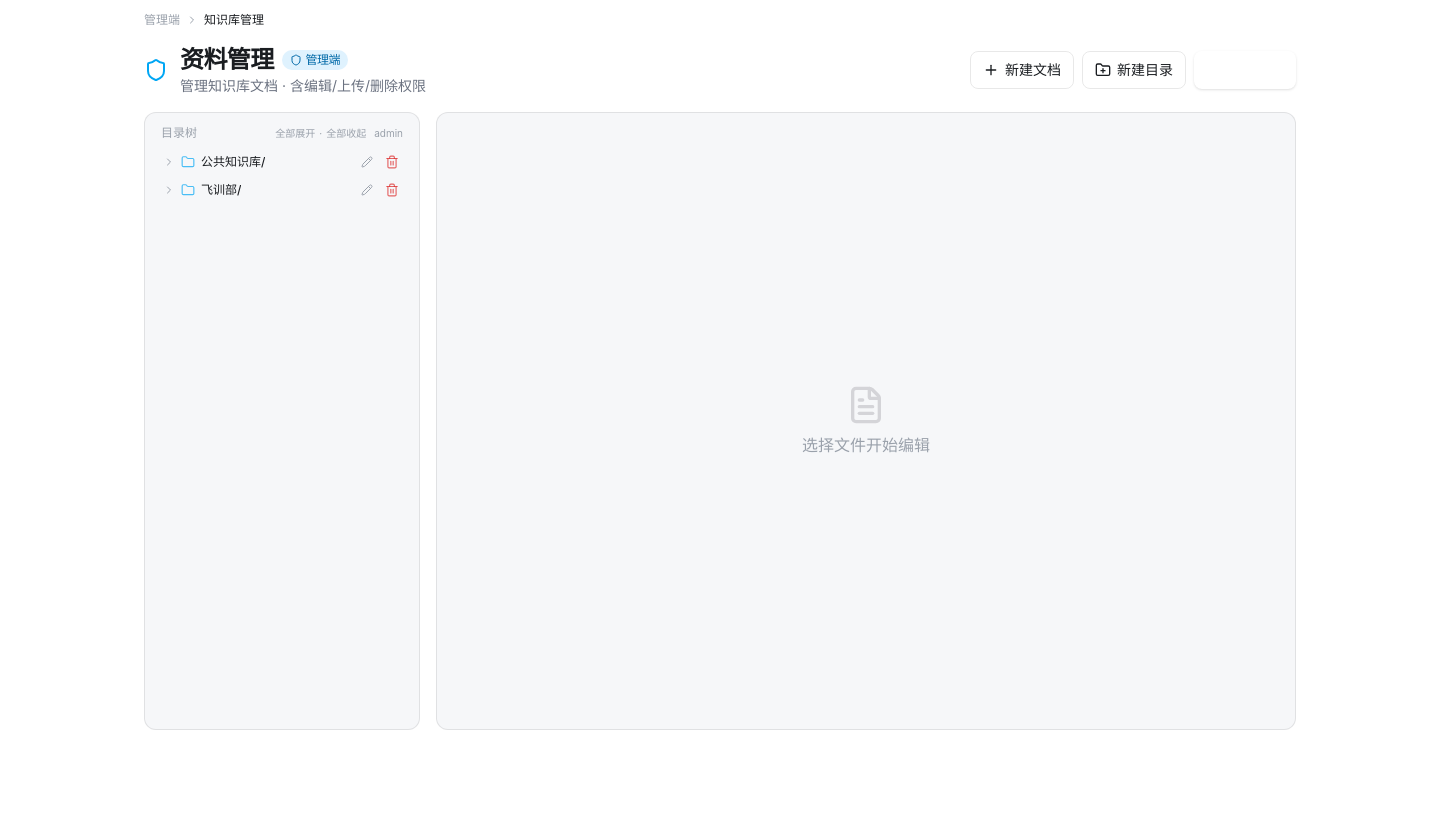
Test: 知识库管理页 · 目录树折叠 › 「全部收起」把展开的都收回去
Check: the text "公共知识库/" is shown, box [201,154,266,170]
Step 1. Click the button "全部展开" → (295, 133), box [275,126,315,140]
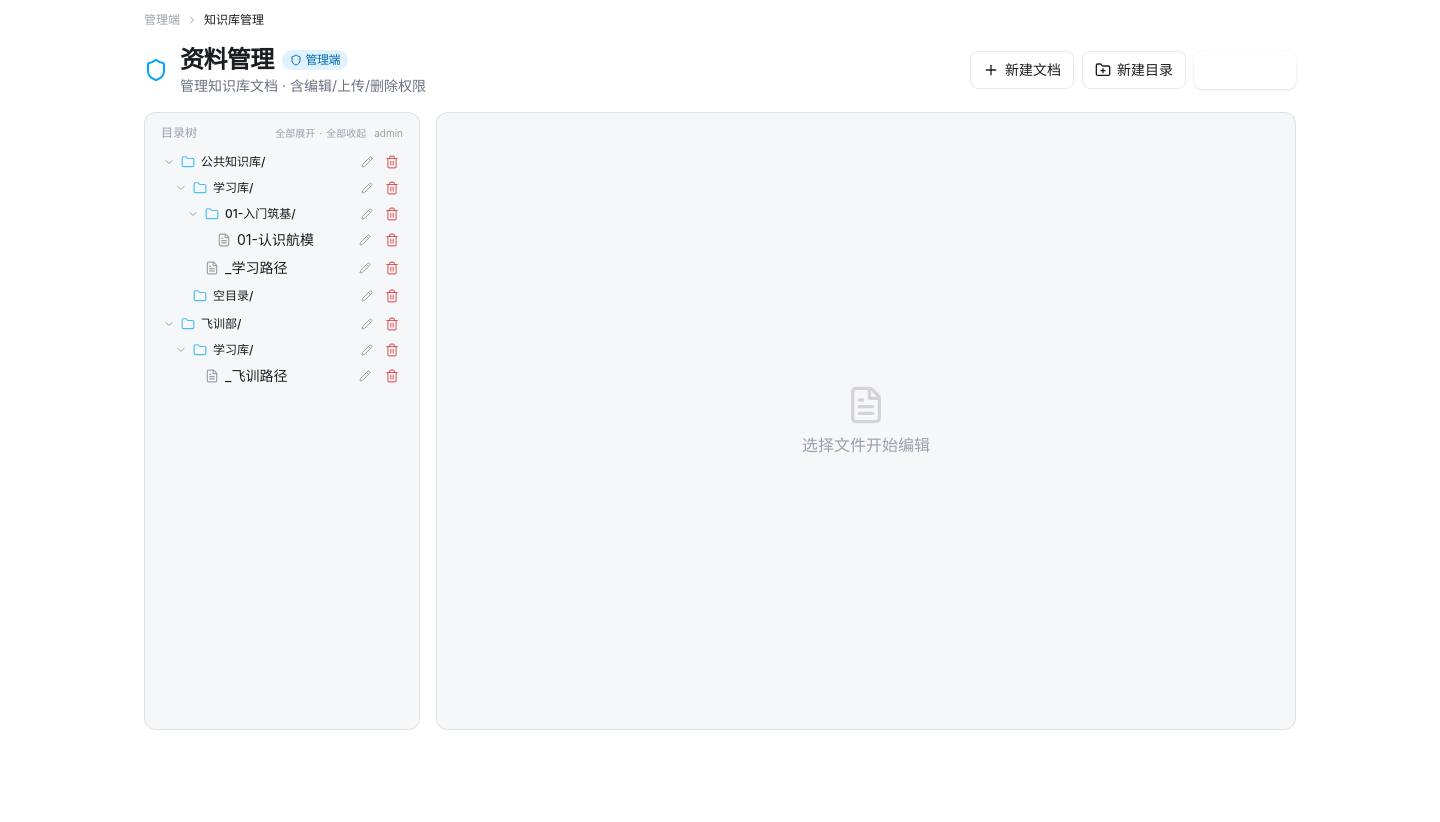
Check: the text "01-认识航模" is shown, box [237,230,314,250]
Step 2. Click the button "全部收起" → (346, 133), box [326,126,366,140]
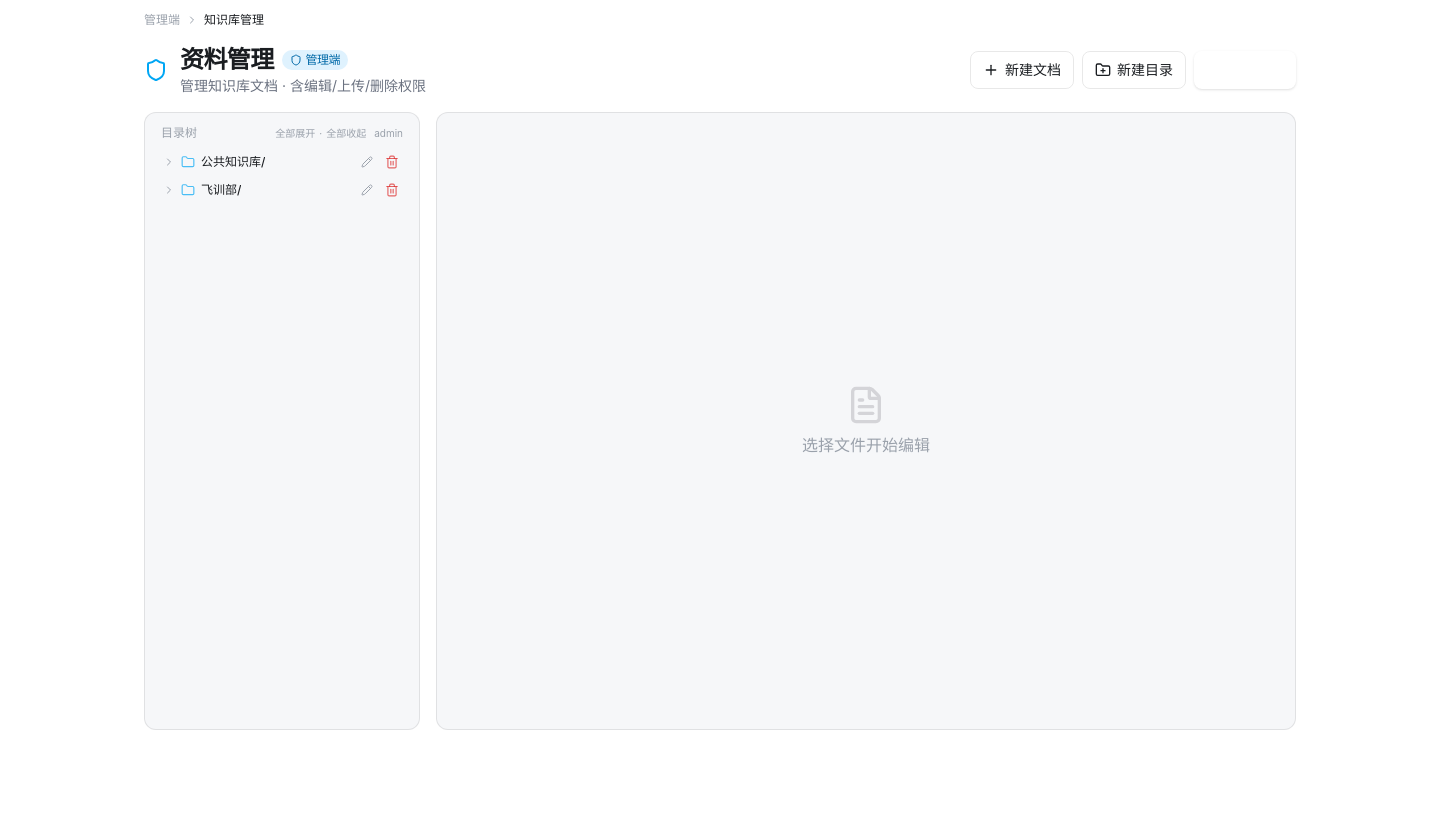
Check: the text "公共知识库/" is shown, box [201,154,266,170]
Check: the button "01-认识航模" is gone
